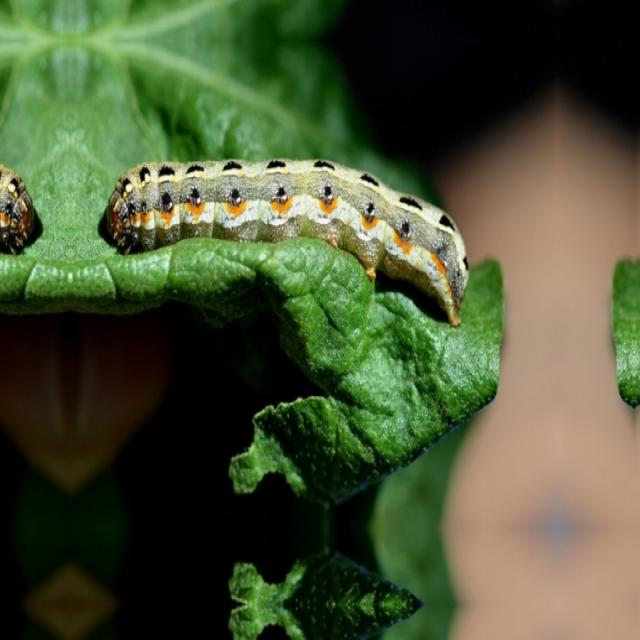armyworm: (104, 155, 470, 328)
